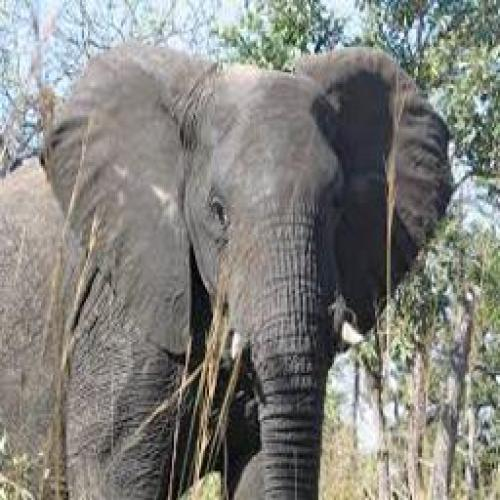african_elephant-endangered: (21, 39, 455, 491)
